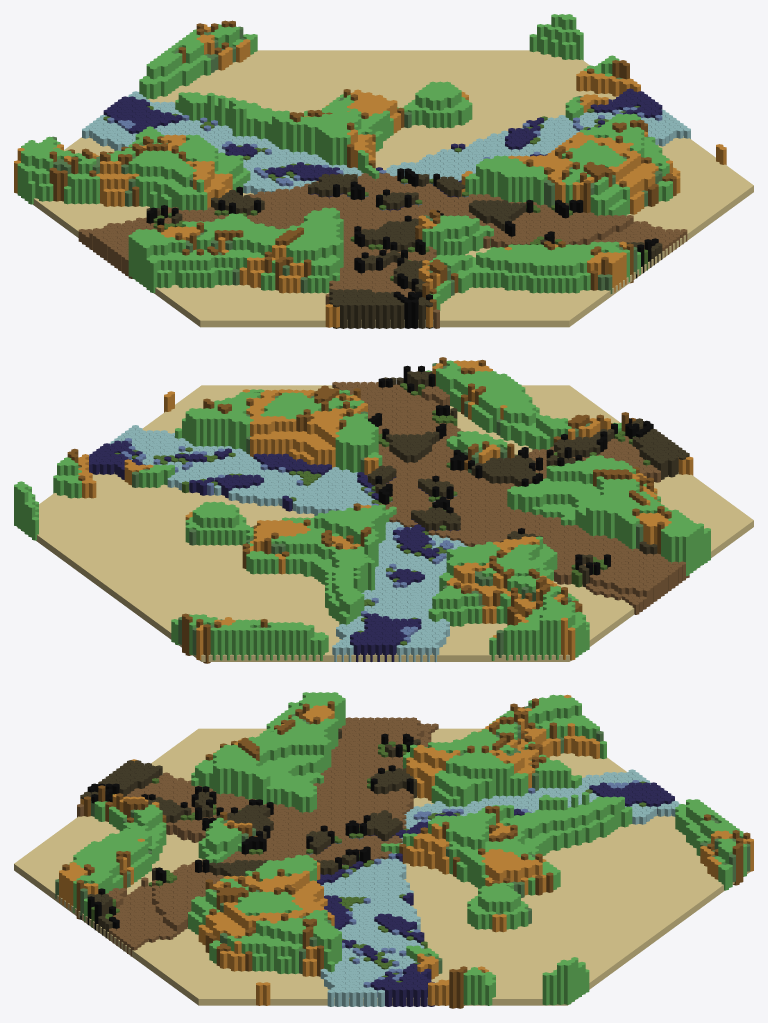
The model's file is 0005_tile_1110201.fbx.
3 renders of one model, top to bottom at view 1: azimuth 30°, elevation 25°; view 2: azimuth 150°, elevation 25°; view 3: azimuth 270°, elevation 25°, orthographic.
Parts seen in each view (by area): view 1: Plane; view 2: Plane; view 3: Plane.
Part boxes in pixels (box(x1,y1,x2,y2)): Plane: box(14, 14, 753, 328); Plane: box(14, 357, 753, 663); Plane: box(14, 692, 753, 1008).
Bounding box in the file's own units: 1008 × 82.33 × 1152.
